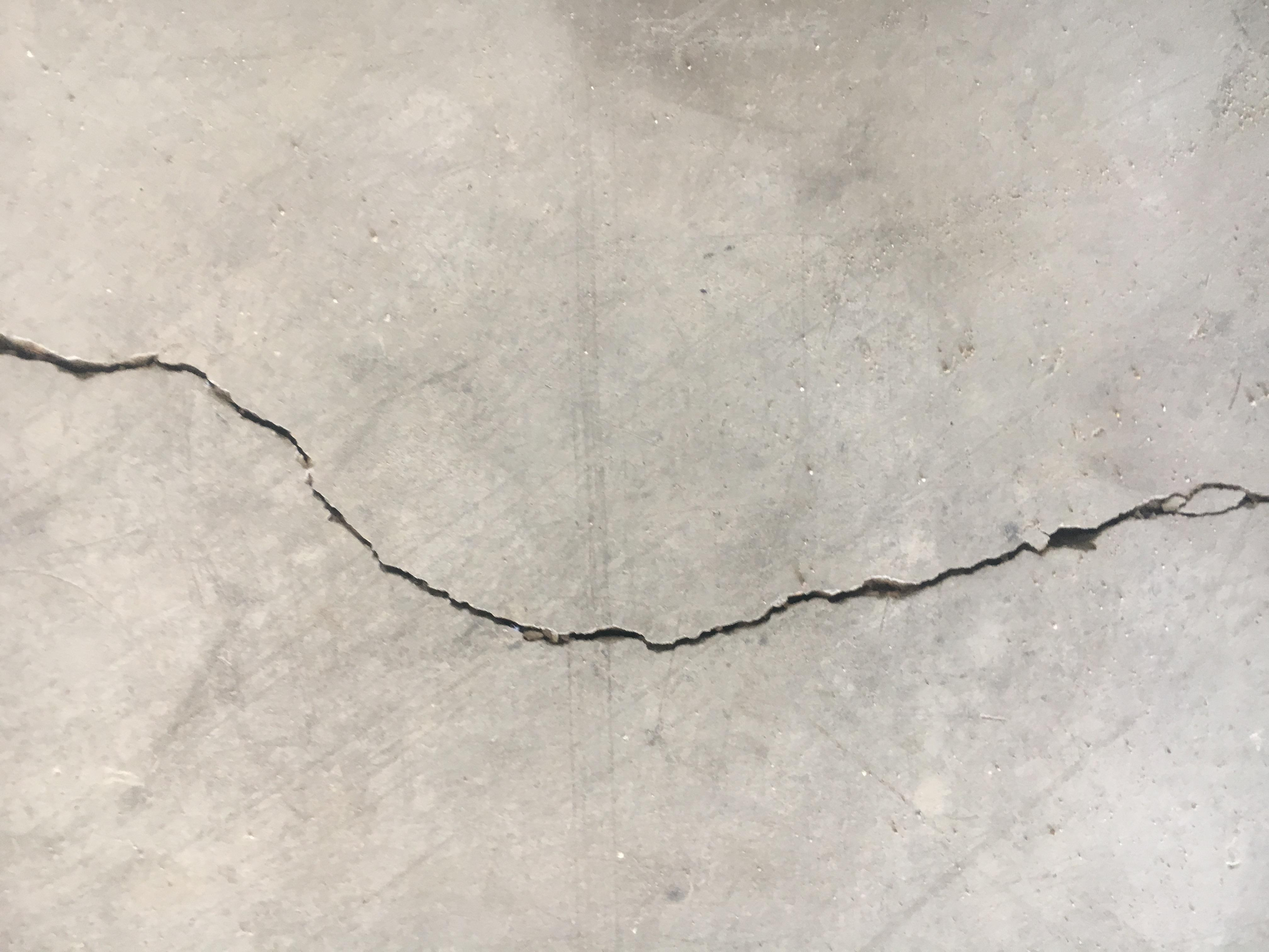Horizontal Settlement Crack: (3, 328, 1266, 655)
